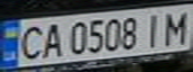0: (66, 18, 87, 56), (103, 16, 124, 53)
5: (84, 17, 109, 54)
8: (118, 13, 142, 51)
A: (39, 20, 66, 60)
C: (12, 23, 45, 62)
I: (139, 10, 169, 48)
M: (157, 7, 193, 46)
